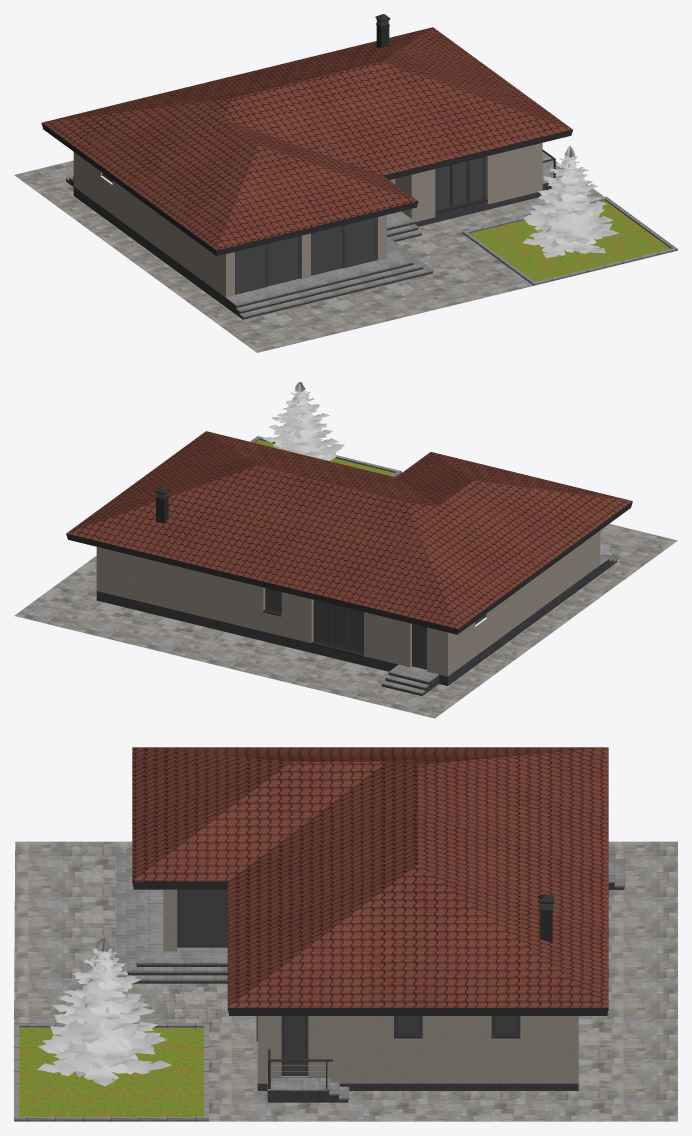
File: home 2.fbx
The picture shows the model from 3 angles, top to bottom: view 1: azimuth 30°, elevation 25°; view 2: azimuth 150°, elevation 25°; view 3: azimuth 270°, elevation 25°; orthographic projection. The views are drawn at different scales.
Parts seen in each view (by area): view 1: home_2; view 2: home_2; view 3: home_2, Branch_23, Branch_10.
Part boxes in pixels (x1,y1,x2,y2): home_2: (14,14,677,352); home_2: (14,431,677,718); home_2: (14,747,677,1121); Branch_23: (85,1037,130,1062); Branch_10: (78,1063,126,1085).
Size of the model in its own units: 39.43 by 10.81 by 39.54.
